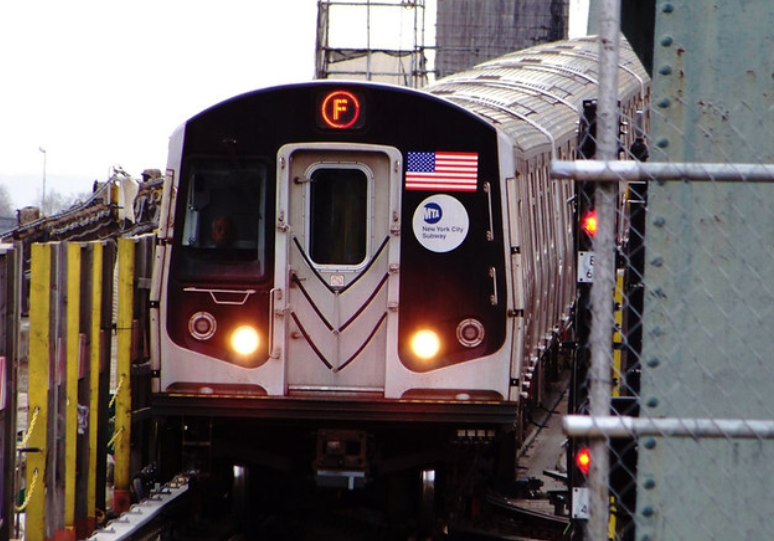train: (158, 82, 526, 439)
